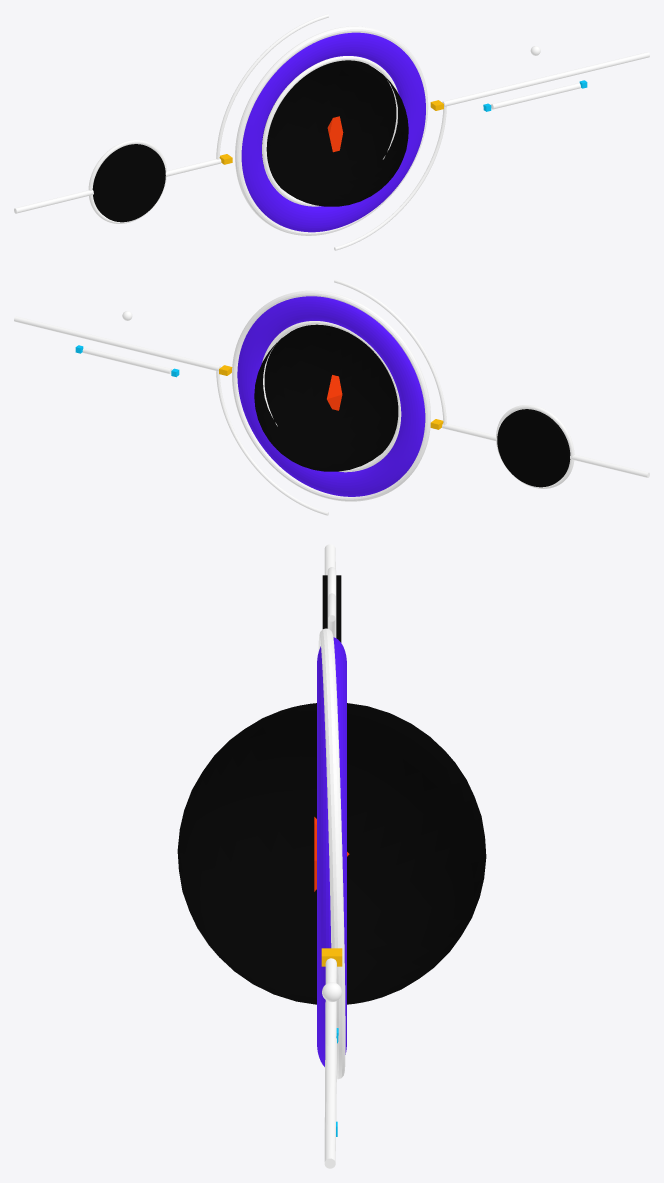
The model's file is IRIS.glb.
The picture shows the model from 3 angles, top to bottom: view 1: azimuth 30°, elevation 25°; view 2: azimuth 150°, elevation 25°; view 3: azimuth 270°, elevation 25°; orthographic projection. The views are drawn at different scales.
Parts seen in each view (by area): view 1: Icosahedron, Torus (×4), Cylinder (×2), Torus 2, Cylinder 1, Torus 1, Cylinder 2, Cone; view 2: Icosahedron, Torus (×4), Cylinder (×2), Torus 2, Cylinder 1, Torus 1, Cylinder 2, Cone; view 3: Icosahedron, Torus, Torus 2, Cylinder 1.
Boxes of the visible parts, x1=… form: Icosahedron: x1=262, y1=60, x2=408, y2=206; Torus (×4): x1=88, y1=32, x2=446, y2=250; Cylinder (×2): x1=14, y1=144, x2=221, y2=222; Torus 2: x1=235, y1=26, x2=428, y2=235; Cylinder 1: x1=442, y1=52, x2=649, y2=106; Torus 1: x1=216, y1=14, x2=328, y2=159; Cylinder 2: x1=491, y1=83, x2=580, y2=109; Cone: x1=327, y1=116, x2=343, y2=152; Icosahedron: x1=254, y1=324, x2=398, y2=471; Torus (×4): x1=216, y1=296, x2=574, y2=515; Cylinder (×2): x1=442, y1=409, x2=649, y2=487; Torus 2: x1=232, y1=290, x2=430, y2=501; Cylinder 1: x1=14, y1=316, x2=220, y2=371; Torus 1: x1=334, y1=279, x2=446, y2=425; Cylinder 2: x1=82, y1=347, x2=172, y2=374; Cone: x1=327, y1=375, x2=342, y2=410; Icosahedron: x1=177, y1=703, x2=486, y2=1004; Torus: x1=317, y1=637, x2=346, y2=1066; Torus 2: x1=318, y1=628, x2=345, y2=1079; Cylinder 1: x1=324, y1=958, x2=336, y2=1168.
Size of the model in its own units: 8.52 by 3.06 by 1.8.
